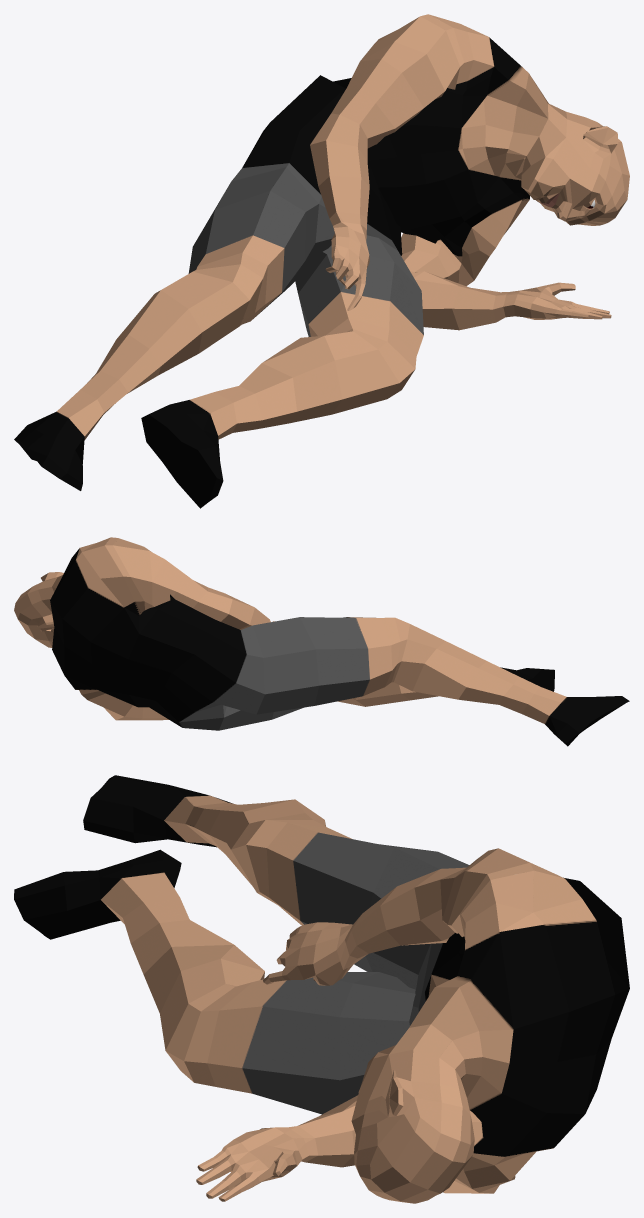
File: PlayerDead(66).obj
The picture shows the model from 3 angles, top to bottom: view 1: azimuth 30°, elevation 25°; view 2: azimuth 150°, elevation 25°; view 3: azimuth 270°, elevation 25°; orthographic projection. The views are drawn at different scales.
Visible parts, largest first — view 1: Plane002; view 2: Plane002; view 3: Plane002.
Part boxes in pixels (left/top/right/bottom): Plane002: left=14, top=14, right=629, bottom=508; Plane002: left=14, top=537, right=629, bottom=746; Plane002: left=14, top=775, right=629, bottom=1203.
Size of the model in its own units: 1600 by 553 by 934.
